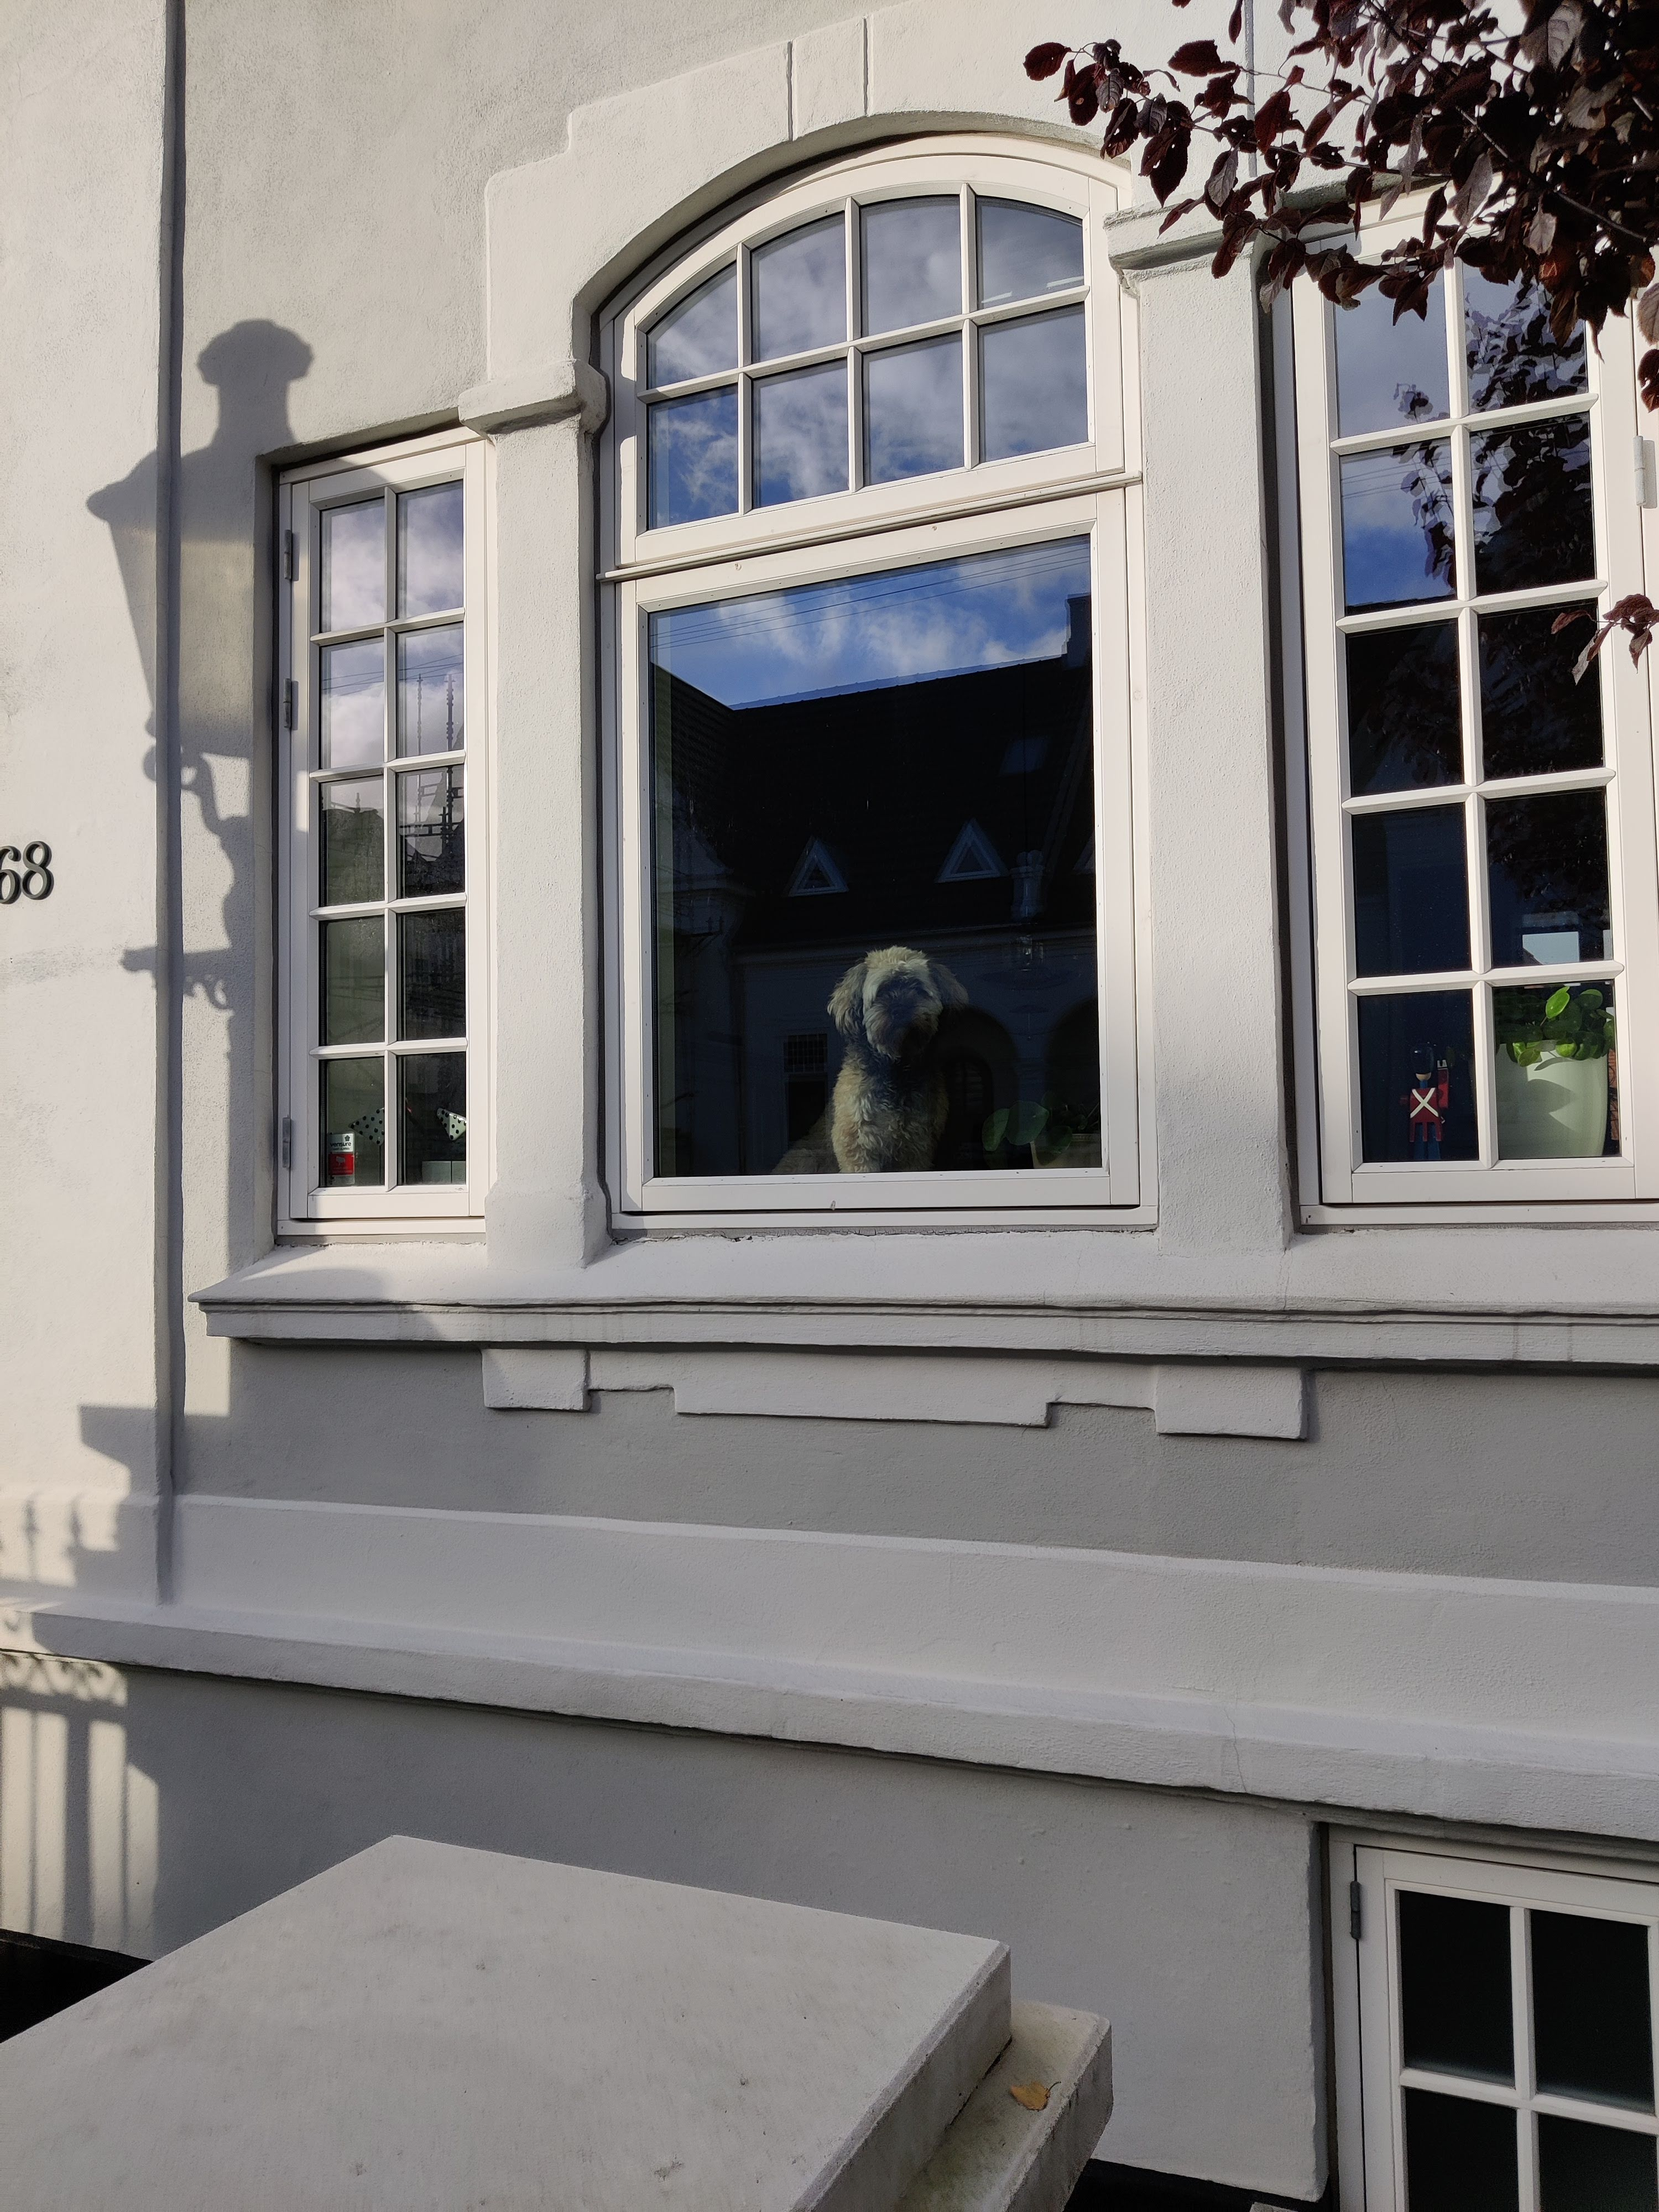Dog: (765, 941, 972, 1174)
